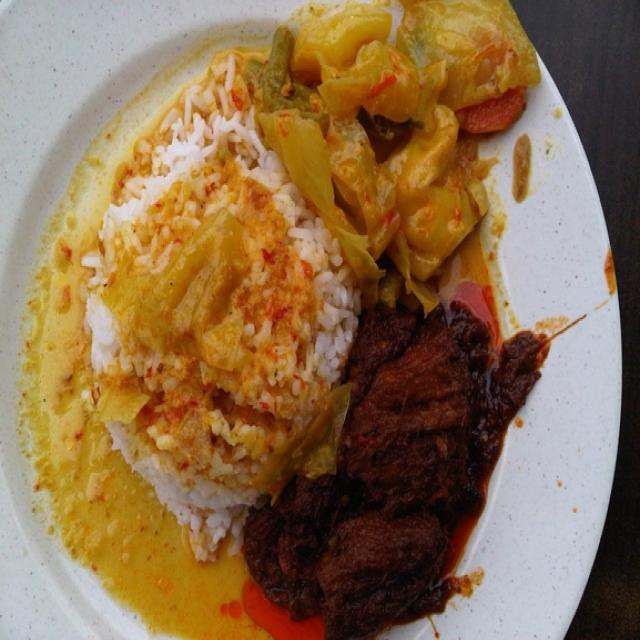米饭主食: (16, 11, 621, 628)
